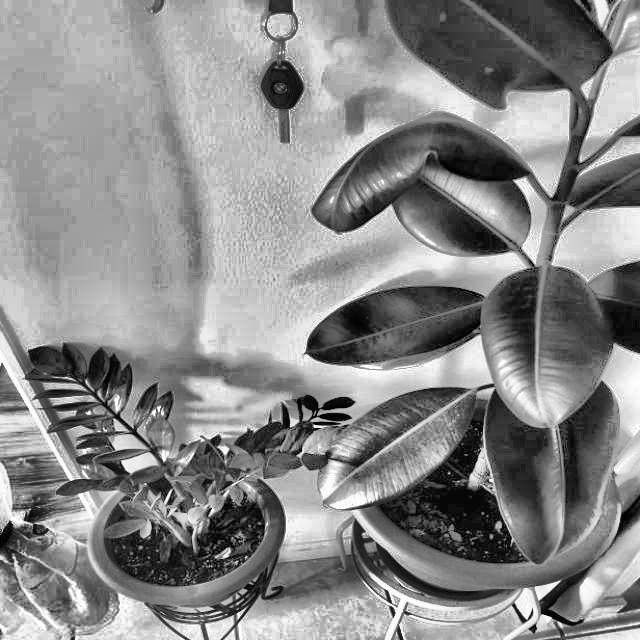plants: (328, 1, 640, 561), (0, 343, 304, 573)
